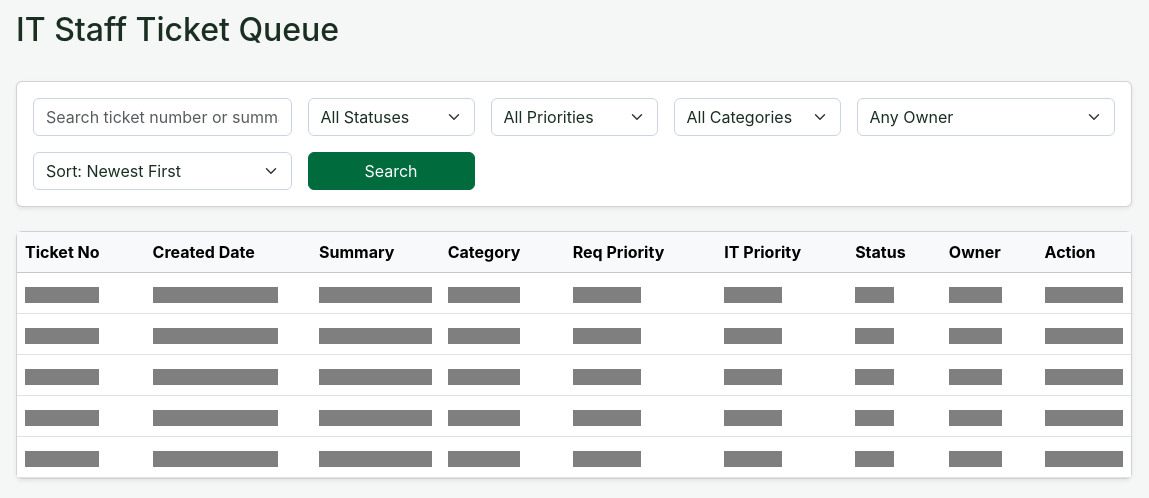
StaffTicketQueue Component › renders no results state if tickets empty but filters active
In the field with placeholder "Search ticket number or summary": (162, 117) x1=33 y1=98 x2=292 y2=136, type "Missing Server"
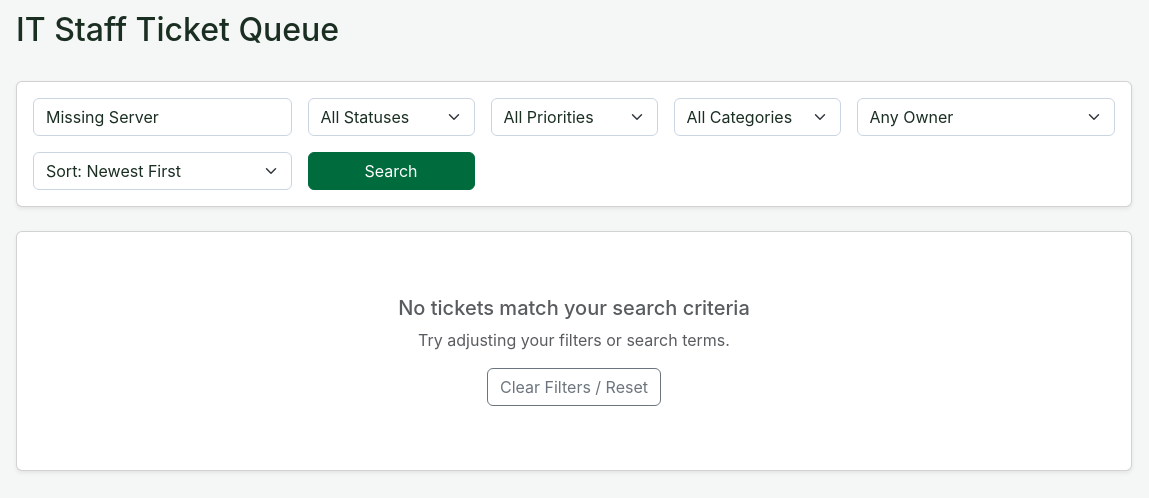
Check: the heading "No tickets match your search criteria" is shown, box x1=398 y1=296 x2=750 y2=320
Check: the button "Clear Filters / Reset" is shown, box x1=487 y1=368 x2=661 y2=406
